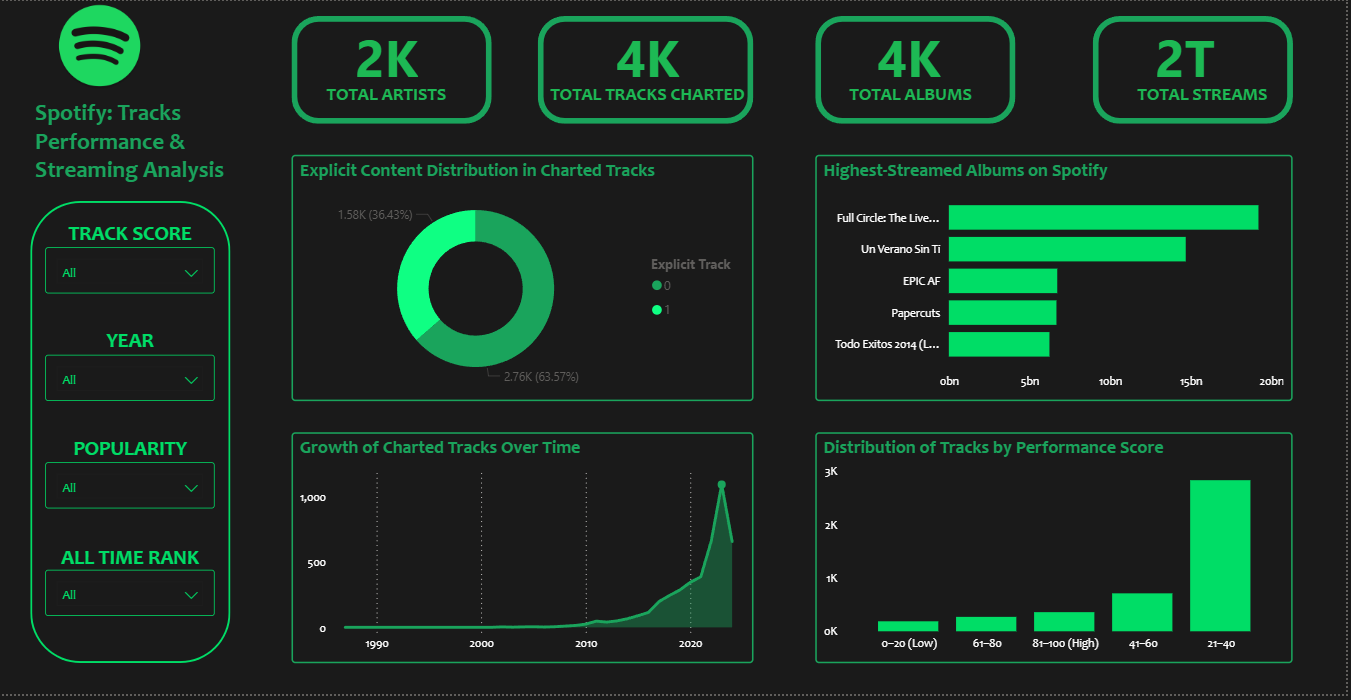

The page's visual inventory and layout, read from the dashboard file:
{"tool":"powerbi","page":{"name":"ANALYTICS","canvas":[1400,720],"ordinal":0},"visuals":[{"type":"cardVisual","fields":{"Data":["Spotify 2024 wrapped up.Total Artists"]},"box":[240,0,325.4,112],"z":0,"group":"g7"},{"type":"cardVisual","fields":{"Data":["Spotify 2024 wrapped up.Total Tracks Charted"]},"box":[528,0,291.2,112],"z":0,"group":"g8"},{"type":"cardVisual","fields":{"Data":["Spotify 2024 wrapped up.Total Albums"]},"box":[800,0,291.2,112],"z":0,"group":"g9"},{"type":"cardVisual","fields":{"Data":["Sum(Spotify 2024 wrapped up.Spotify Streams)"]},"box":[1088,0,288,112],"z":0,"group":"g10"},{"type":"clusteredBarChart","title":"Highest-Streamed Albums on Spotify","fields":{"Y":["Sum(Spotify 2024 wrapped up.Spotify Streams)"],"Category":["Spotify 2024 wrapped up.Album Name"]},"box":[848,160,496,256],"z":0},{"type":"group","id":"g1","title":"Group 1","box":[1088,0,288,112],"z":1000,"group":"g4"},{"type":"textbox","box":[562.3,80,222.6,64],"z":1000,"group":"g8"},{"type":"textbox","box":[834.3,80,222.6,64],"z":1000,"group":"g9"},{"type":"textbox","box":[1138.3,80,222.6,32],"z":1000,"group":"g10"},{"type":"shape","box":[32,208,208,480],"z":1000},{"type":"textbox","box":[274.3,80,256.9,32],"z":1003,"group":"g7"},{"type":"group","id":"g2","title":"Group 2","box":[800,0,272,144],"z":2000,"group":"g4"},{"type":"group","id":"g3","title":"Group 14","box":[48,224,176,416],"z":2000},{"type":"group","id":"g4","title":"Group 10","box":[240,0,1136,144],"z":3000},{"type":"group","id":"g5","title":"Group 3","box":[528,0,288,144],"z":3000,"group":"g4"},{"type":"image","box":[32,0,144,96],"z":4000},{"type":"group","id":"g6","title":"Group 4","box":[240,0,320,112],"z":4000,"group":"g4"},{"type":"shape","box":[1136,16,208,112],"z":5000},{"type":"slicer","fields":{"Values":["Spotify 2024 wrapped up.Track Score"]},"box":[48,256,176,48],"z":5000,"group":"g11"},{"type":"group","id":"g7","title":"Group 6","box":[240,0,320,112],"z":5005,"group":"g6"},{"type":"group","id":"g8","title":"Group 7","box":[528,0,288,144],"z":5005,"group":"g5"},{"type":"group","id":"g9","title":"Group 8","box":[800,0,291.2,144],"z":5005,"group":"g2"},{"type":"group","id":"g10","title":"Group 9","box":[1088,0,288,112],"z":5005,"group":"g1"},{"type":"shape","box":[848,16,208,112],"z":6000},{"type":"slicer","fields":{"Values":["Spotify 2024 wrapped up.Release_date.Variation.Date Hierarchy.Year"]},"box":[48,368,176,48],"z":6000,"group":"g12"},{"type":"shape","box":[560,16,224,112],"z":7000},{"type":"slicer","fields":{"Values":["Spotify 2024 wrapped up.Spotify Popularity"]},"box":[48,480,176,48],"z":7000,"group":"g13"},{"type":"shape","box":[304,16,208,112],"z":8000},{"type":"slicer","fields":{"Values":["Spotify 2024 wrapped up.All Time Rank"]},"box":[48,592,176,48],"z":8000,"group":"g3"},{"type":"donutChart","title":"Explicit Content Distribution in Charted Tracks","fields":{"Category":["Spotify 2024 wrapped up.Explicit Track"],"Y":["Count(Spotify 2024 wrapped up.Track)"]},"box":[304,160,480,256],"z":9000},{"type":"textbox","box":[48,336,176,48],"z":9000,"group":"g12"},{"type":"textbox","box":[48,224,176,48],"z":10000,"group":"g11"},{"type":"lineChart","title":"Growth of Charted Tracks Over Time","fields":{"Y":["CountNonNull(Spotify 2024 wrapped up.Track)"],"Category":["Spotify 2024 wrapped up.Release_date.Variation.Date Hierarchy.Year"]},"box":[304,448,480,240],"z":10000},{"type":"textbox","box":[48,448,176,48],"z":11000,"group":"g13"},{"type":"columnChart","title":"Distribution of Tracks by Performance Score","fields":{"Y":["Count(Spotify 2024 wrapped up.Track)"],"Category":["Spotify 2024 wrapped up.Track Score Band"]},"box":[848,448,496,240],"z":11000},{"type":"textbox","box":[32,96,256,112],"z":12000},{"type":"textbox","box":[48,560,176,48],"z":12000,"group":"g3"},{"type":"group","id":"g11","title":"Group 11","box":[48,224,176,80],"z":27001,"group":"g12"},{"type":"group","id":"g12","title":"Group 12","box":[48,224,176,192],"z":27002,"group":"g13"},{"type":"group","id":"g13","title":"Group 13","box":[48,224,176,304],"z":27003,"group":"g3"}]}

Visuals, with their boxes in screenshot pixels (x1, y1, x2, y2), scaled from the page's 1400x720 canvas onto the 1351x700 screenshot:
cardVisual - Spotify 2024 wrapped up.Total Artists: detection(232, 0, 546, 109)
cardVisual - Spotify 2024 wrapped up.Total Tracks Charted: detection(510, 0, 791, 109)
cardVisual - Spotify 2024 wrapped up.Total Albums: detection(772, 0, 1053, 109)
cardVisual - Sum(Spotify 2024 wrapped up.Spotify Streams): detection(1050, 0, 1328, 109)
"Highest-Streamed Albums on Spotify" clusteredBarChart: detection(818, 156, 1297, 404)
"Group 1" group: detection(1050, 0, 1328, 109)
textbox: detection(543, 78, 757, 140)
textbox: detection(805, 78, 1020, 140)
textbox: detection(1098, 78, 1313, 109)
shape: detection(31, 202, 232, 669)
textbox: detection(265, 78, 513, 109)
"Group 2" group: detection(772, 0, 1034, 140)
"Group 14" group: detection(46, 218, 216, 622)
"Group 10" group: detection(232, 0, 1328, 140)
"Group 3" group: detection(510, 0, 787, 140)
image: detection(31, 0, 170, 93)
"Group 4" group: detection(232, 0, 540, 109)
shape: detection(1096, 16, 1297, 124)
slicer - Spotify 2024 wrapped up.Track Score: detection(46, 249, 216, 296)
"Group 6" group: detection(232, 0, 540, 109)
"Group 7" group: detection(510, 0, 787, 140)
"Group 8" group: detection(772, 0, 1053, 140)
"Group 9" group: detection(1050, 0, 1328, 109)
shape: detection(818, 16, 1019, 124)
slicer - Spotify 2024 wrapped up.Release_date.Variation.Date Hierarchy.Year: detection(46, 358, 216, 404)
shape: detection(540, 16, 757, 124)
slicer - Spotify 2024 wrapped up.Spotify Popularity: detection(46, 467, 216, 513)
shape: detection(293, 16, 494, 124)
slicer - Spotify 2024 wrapped up.All Time Rank: detection(46, 576, 216, 622)
"Explicit Content Distribution in Charted Tracks" donutChart: detection(293, 156, 757, 404)
textbox: detection(46, 327, 216, 373)
textbox: detection(46, 218, 216, 264)
"Growth of Charted Tracks Over Time" lineChart: detection(293, 436, 757, 669)
textbox: detection(46, 436, 216, 482)
"Distribution of Tracks by Performance Score" columnChart: detection(818, 436, 1297, 669)
textbox: detection(31, 93, 278, 202)
textbox: detection(46, 544, 216, 591)
"Group 11" group: detection(46, 218, 216, 296)
"Group 12" group: detection(46, 218, 216, 404)
"Group 13" group: detection(46, 218, 216, 513)
